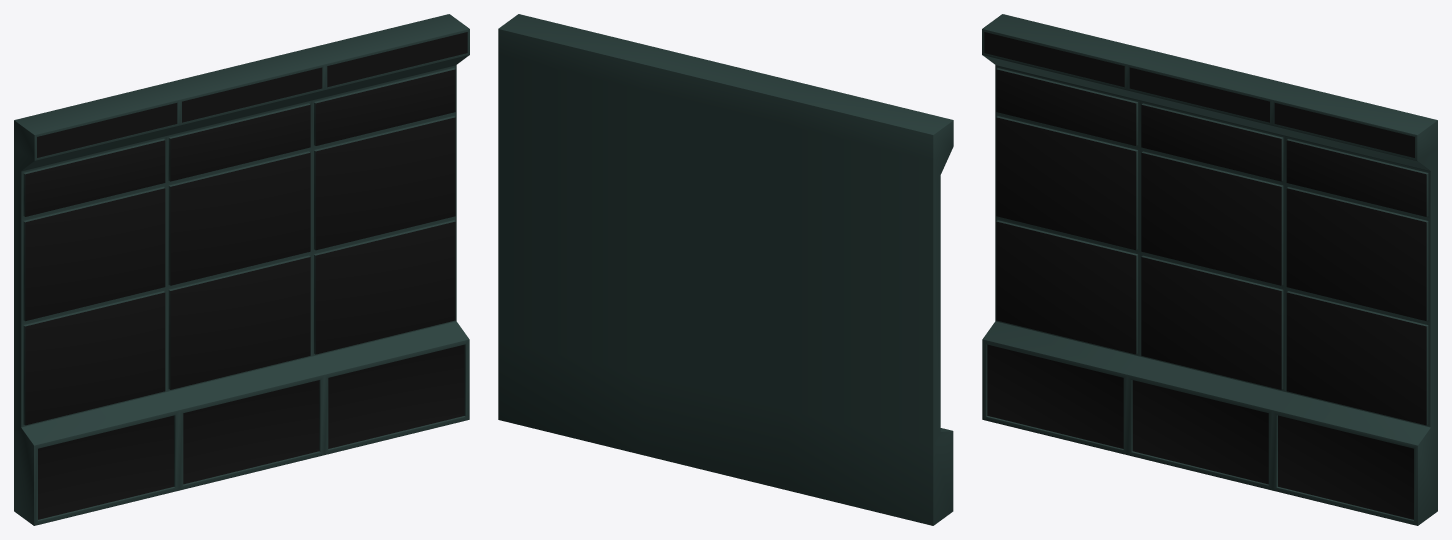
Rendered from mur.fbx.
3 views of the same model, side by side, from view 1: azimuth 30°, elevation 25°; view 2: azimuth 150°, elevation 25°; view 3: azimuth 330°, elevation 25° (orthographic).
Parts seen in each view (by area): view 1: Box011; view 2: Box011; view 3: Box011.
Boxes of the visible parts, x1,y1,x2,y2 form: Box011: (14, 14, 469, 525); Box011: (498, 14, 953, 525); Box011: (982, 14, 1437, 525).
Size of the model in its own units: 1157 by 993 by 94.57.
